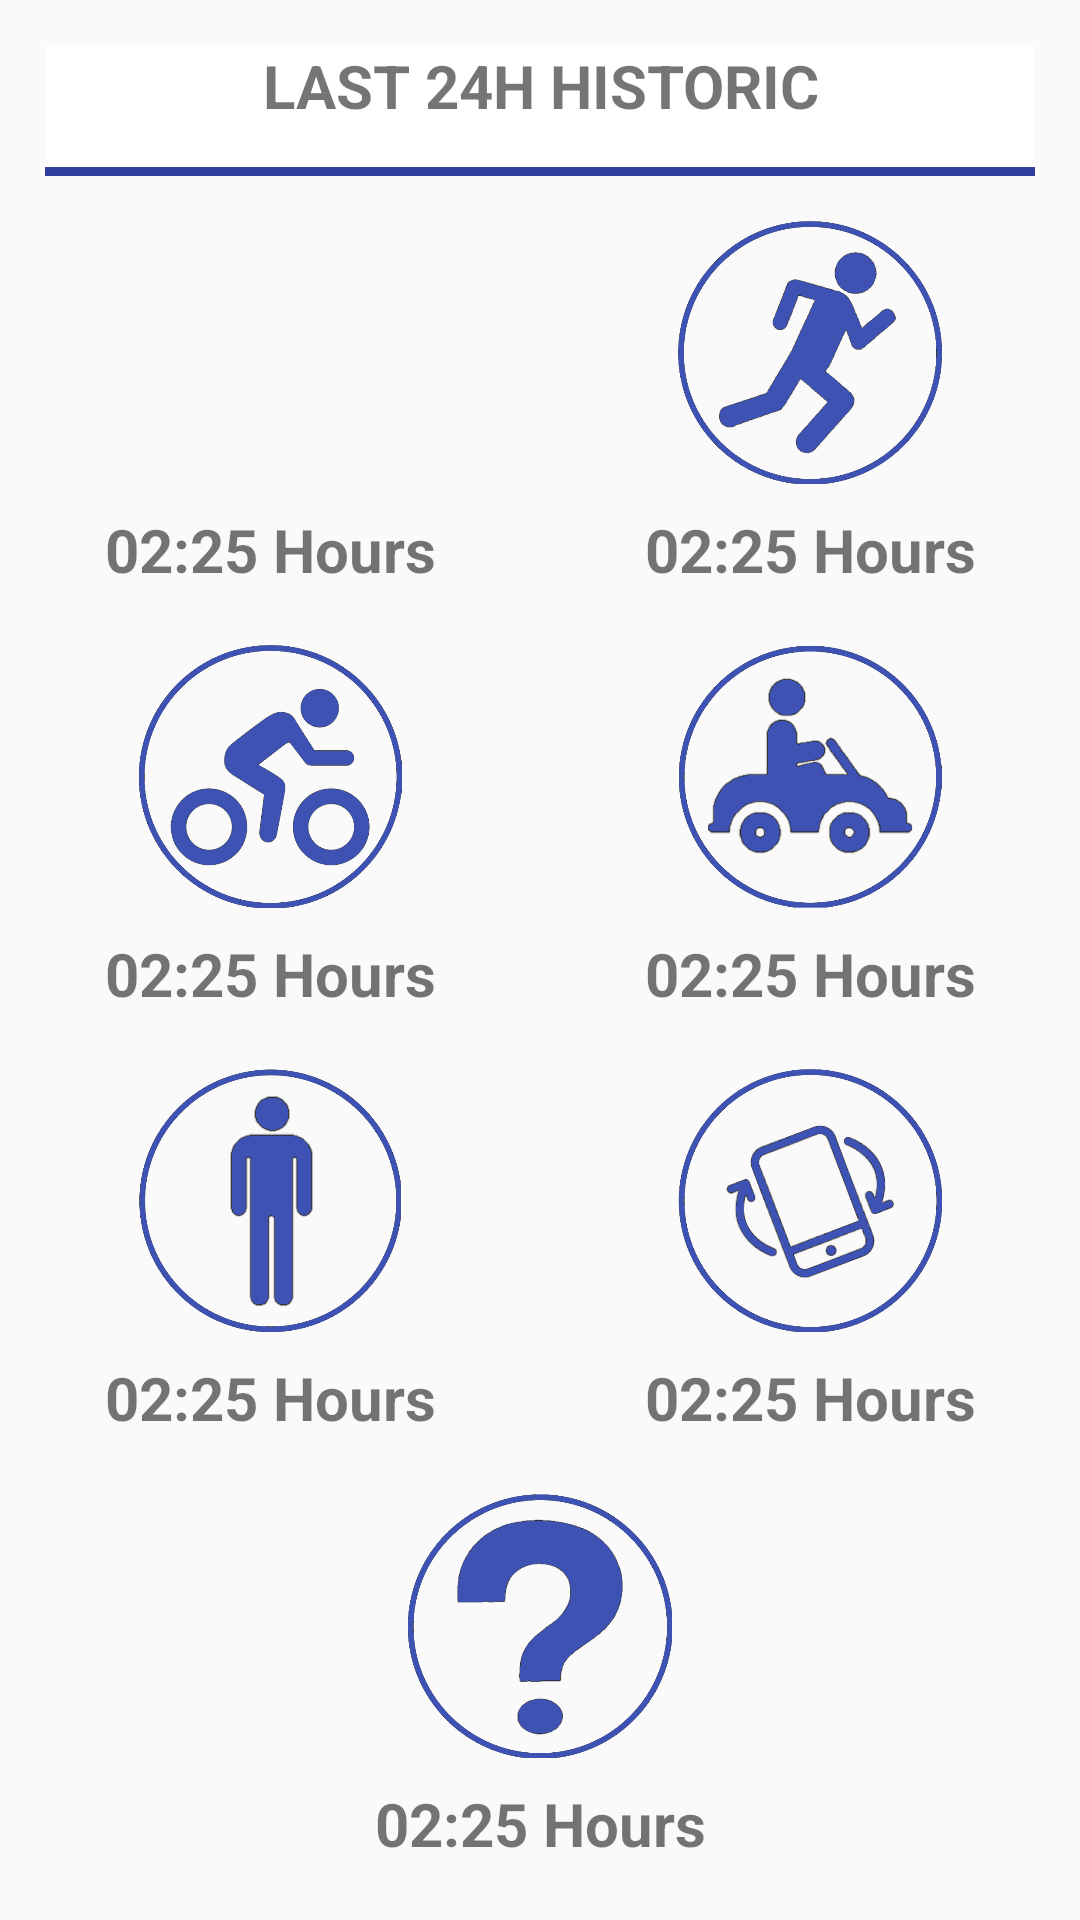

Screen size 1080 x 1920. Icon name, then its box in pixels as box(x1, y1, x2, y2):
invehicle activity: box(679, 646, 942, 908)
onbicycle activity: box(139, 645, 402, 908)
running activity: box(678, 221, 942, 484)
still activity: box(139, 1069, 401, 1332)
tilting activity: box(678, 1069, 942, 1332)
unknown activity: box(408, 1494, 672, 1758)
